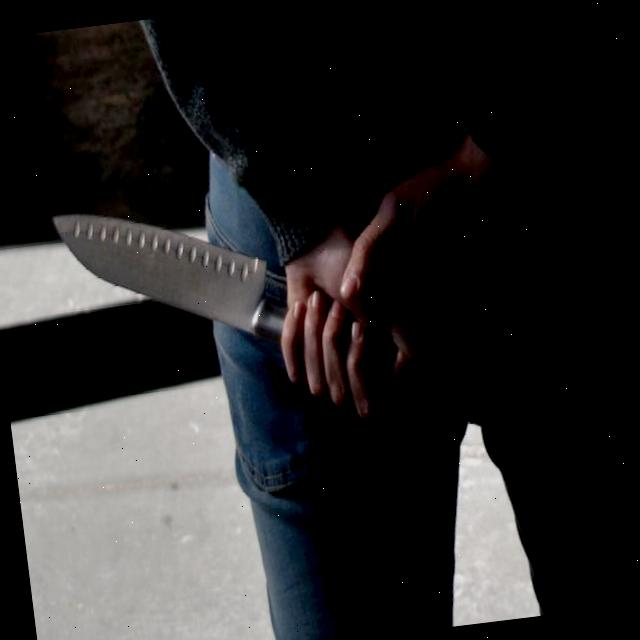suspicion: (23, 0, 434, 466), (48, 184, 290, 368)
